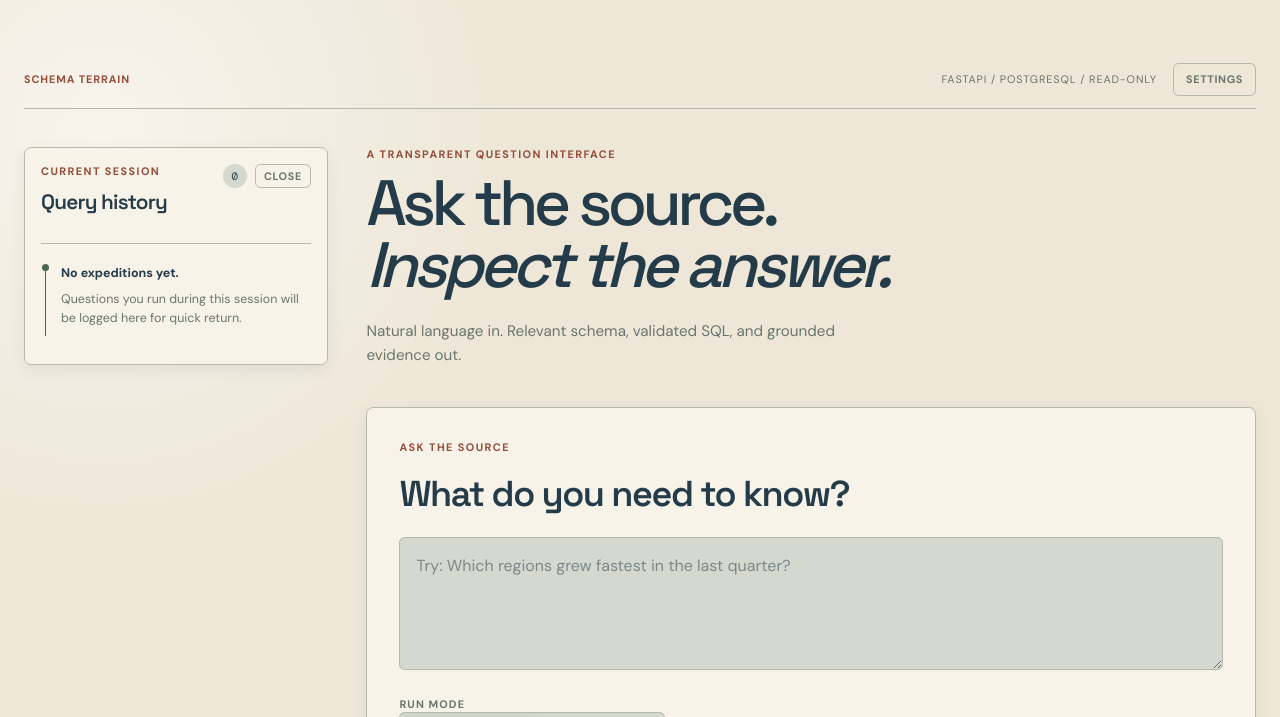
Test: Milestone 10 application › opens the runtime database settings page with safe setup guidance
This screenshot has width=1280, height=717.
Click the button "Settings" at (1214, 79), box x1=1173 y1=63 x2=1256 y2=96
(page scrolled)
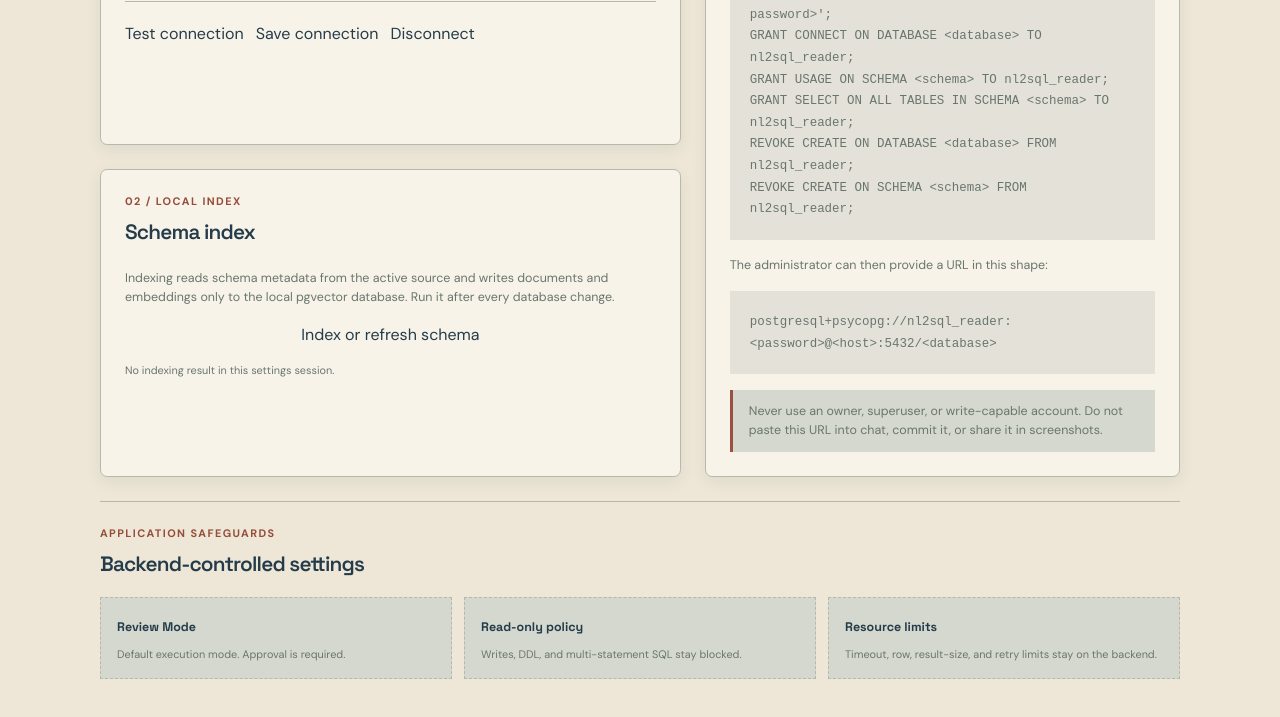
Now the heading "Backend-controlled settings" is shown, box x1=100 y1=548 x2=364 y2=580
